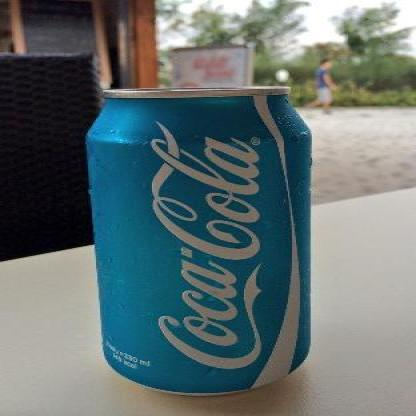alumunium_can: (85, 84, 316, 397)
